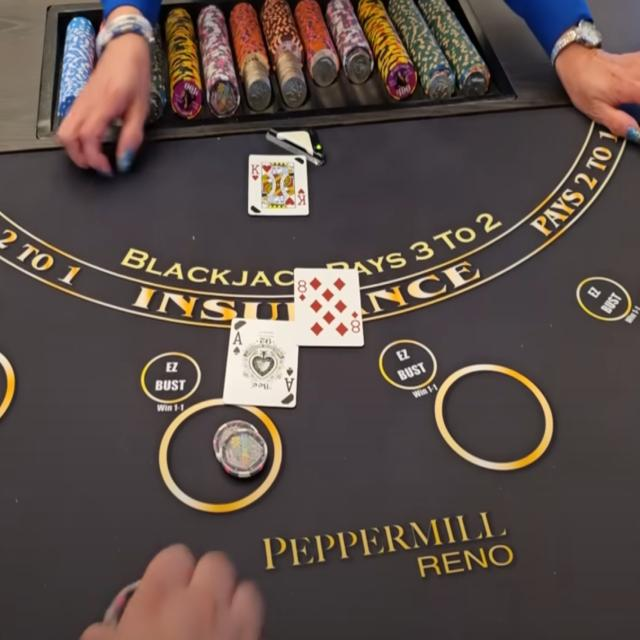8: (296, 278, 309, 294)
A: (231, 329, 244, 346)
K: (251, 162, 260, 176)
